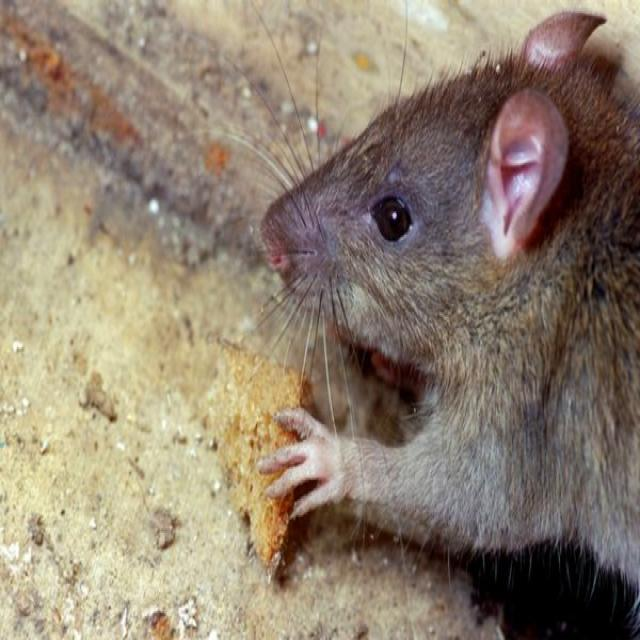rat: (231, 11, 640, 594)
